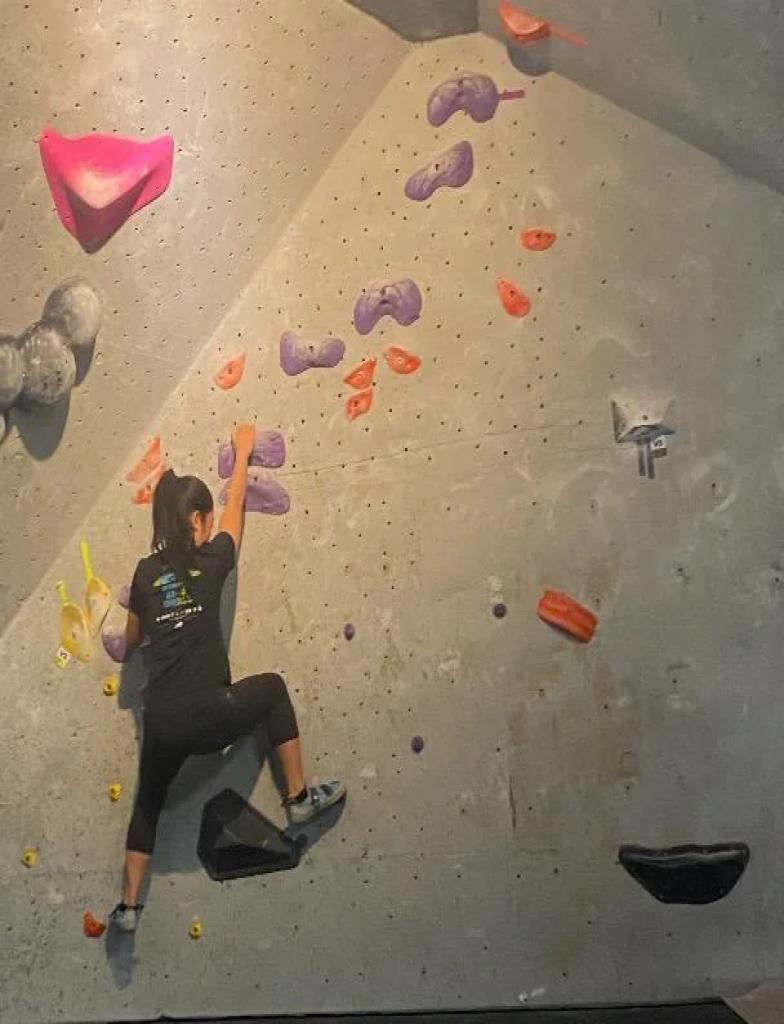crimp: (619, 842, 749, 904), (126, 437, 164, 482), (344, 358, 375, 391), (215, 354, 244, 389), (386, 346, 420, 374), (344, 387, 371, 420), (520, 228, 556, 251)
jib: (103, 676, 117, 696), (188, 919, 202, 939), (22, 848, 36, 866), (410, 735, 423, 753), (108, 783, 121, 801), (343, 622, 355, 640), (493, 602, 505, 617)
jug: (352, 279, 422, 335), (279, 331, 344, 374)
ledge: (404, 141, 473, 200), (427, 72, 499, 125), (539, 589, 597, 643), (611, 397, 674, 441)
pinch: (40, 131, 174, 249), (499, 0, 549, 39)
sidepull: (496, 279, 530, 315)
sloper: (43, 277, 102, 361), (19, 320, 75, 405)
tape: (638, 433, 667, 478), (551, 25, 587, 46), (80, 540, 95, 583), (55, 648, 70, 668), (499, 89, 524, 100), (57, 581, 67, 606)
